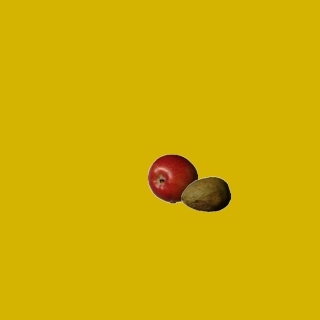Apple Braeburn: (147, 153, 197, 203)
Papaya: (180, 169, 230, 219)
